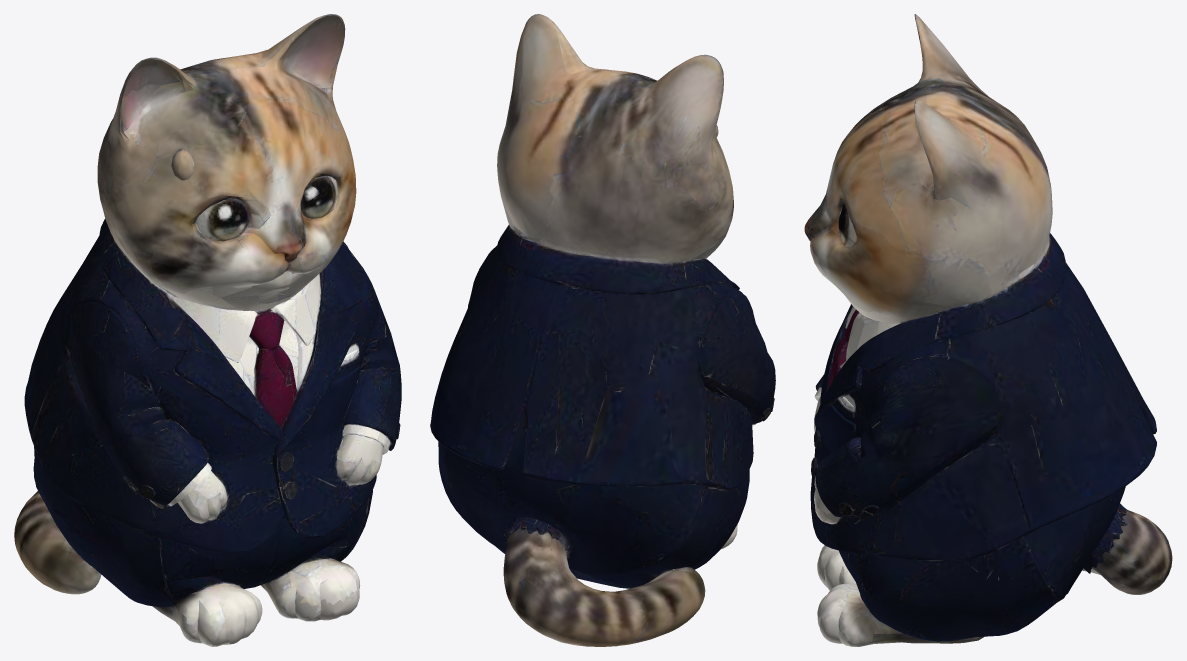
File: villager_7_lite.glb
3 views of the same model, side by side, from view 1: azimuth 30°, elevation 25°; view 2: azimuth 150°, elevation 25°; view 3: azimuth 270°, elevation 25° (orthographic). The views are drawn at different scales.
Parts seen in each view (by area): view 1: Mesh_0; view 2: Mesh_0; view 3: Mesh_0.
Part boxes in pixels (x1=…): Mesh_0: x1=14, y1=14, x2=401, y2=646; Mesh_0: x1=430, y1=14, x2=775, y2=646; Mesh_0: x1=804, y1=14, x2=1172, y2=646.
Size of the model in its own units: 1.07 by 1.9 by 1.15.
Materials: 1 (1 with a texture image).
